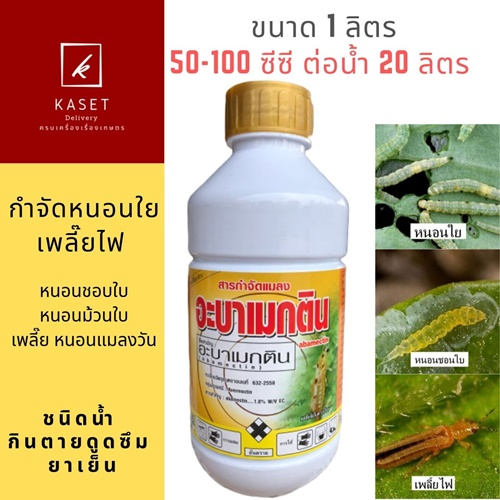Insecticide: (180, 75, 355, 500)
